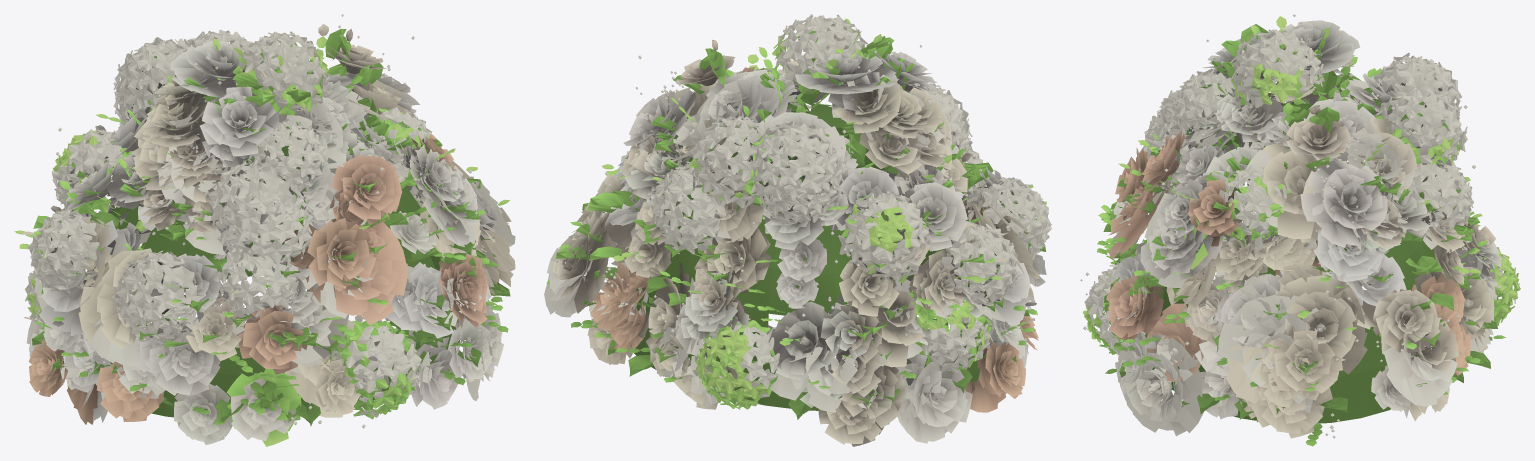
The model's file is mound_c_bright_v13A.glb.
The picture shows the model from 3 angles, left to right: view 1: azimuth 30°, elevation 25°; view 2: azimuth 150°, elevation 25°; view 3: azimuth 270°, elevation 25°; orthographic projection. The views are drawn at different scales.
Parts seen in each view (by area): view 1: petals; view 2: petals; view 3: petals.
Part boxes in pixels (x1,y1,x2,y2): petals: [14, 14, 515, 446]; petals: [544, 14, 1051, 446]; petals: [1080, 14, 1520, 446].
Size of the model in its own units: 0.0154 by 0.0105 by 0.0125.
